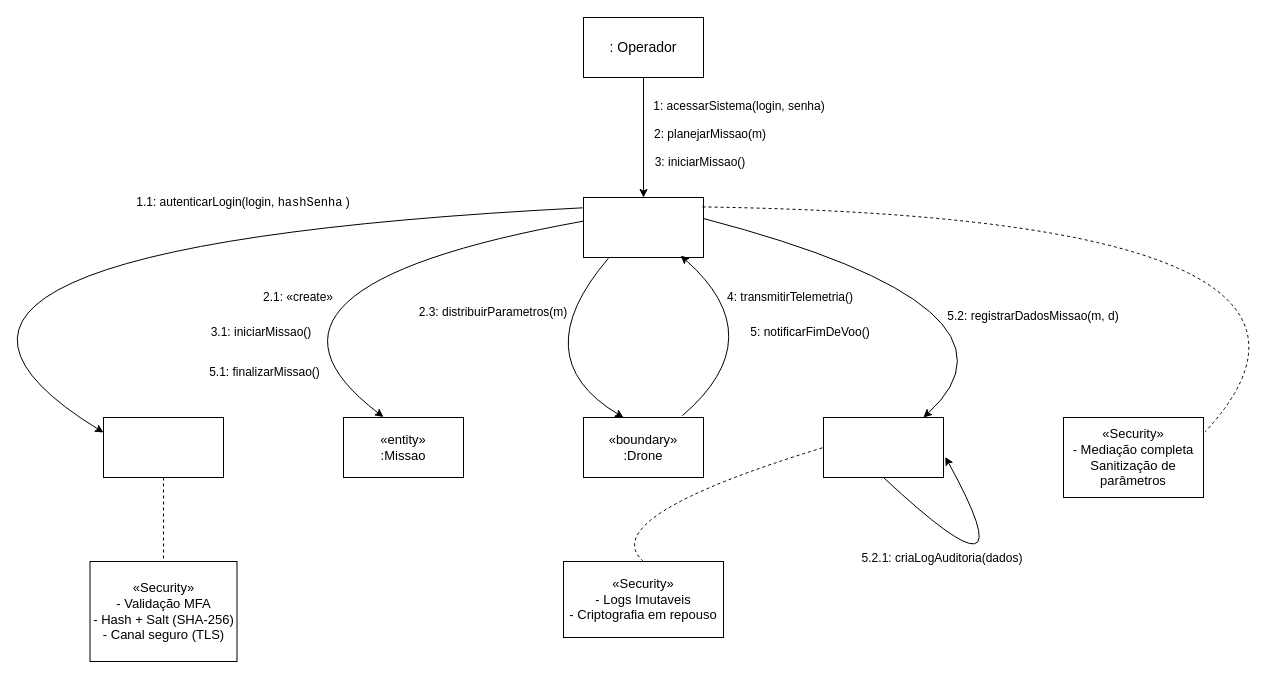
This 1267x679 diagram has some shape labels left out. Here are the shapes that lost their labels. From the top down, the centre of each, then its label:
At pixel 643 227: "«control> :SistemaDeControle".
At pixel 163 447: "«service» :SegurancaService".
At pixel 883 447: "«entity» :ServidorDeDados".
